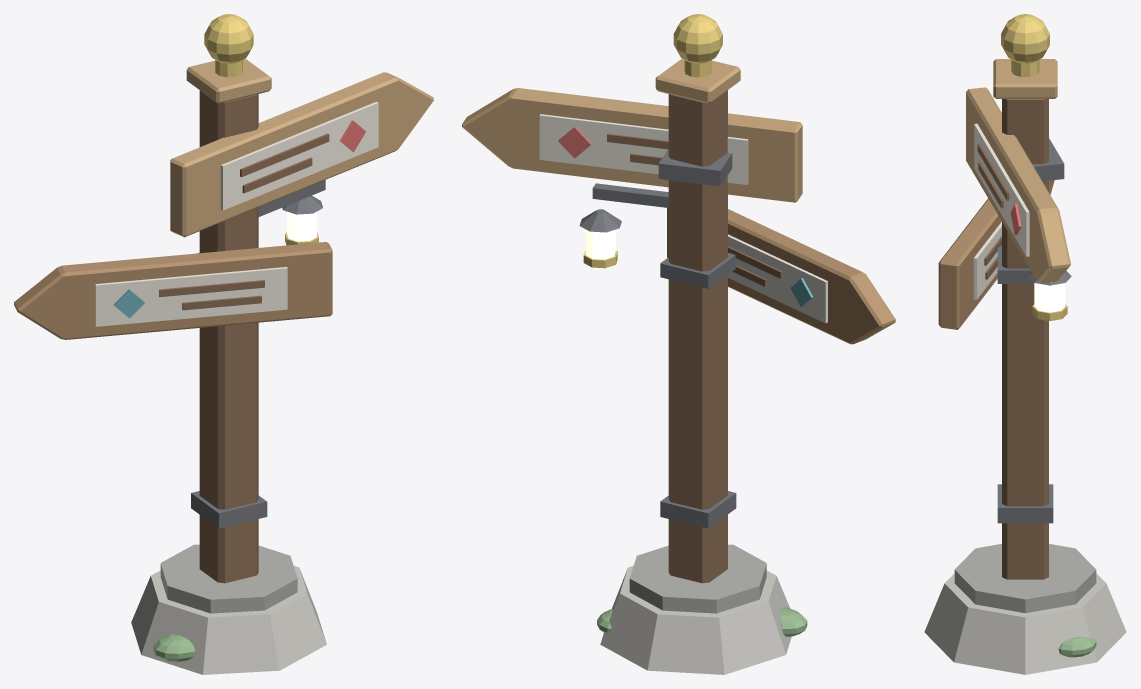
File: village-signpost.glb
3 views of the same model, side by side, from view 1: azimuth 30°, elevation 25°; view 2: azimuth 150°, elevation 25°; view 3: azimuth 270°, elevation 25° (orthographic).
Parts seen in each view (by area): view 1: CarvedVillageSignpost; view 2: CarvedVillageSignpost; view 3: CarvedVillageSignpost.
Part boxes in pixels (bbox=[...]): CarvedVillageSignpost: bbox=[14, 14, 433, 674]; CarvedVillageSignpost: bbox=[462, 14, 895, 674]; CarvedVillageSignpost: bbox=[924, 14, 1126, 674].
Bounding box in the file's own units: 1.44 × 2.02 × 0.6.
